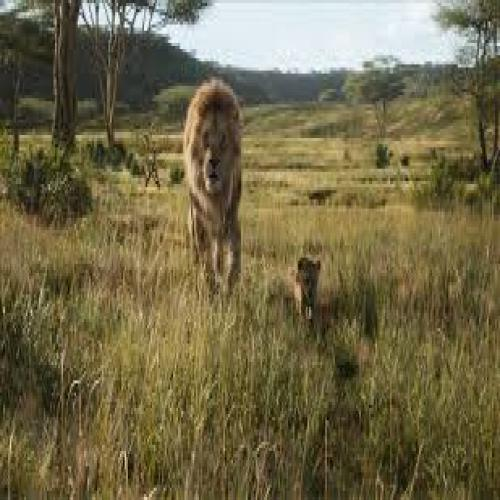lion-endangered: (184, 82, 242, 291), (295, 255, 323, 321)
